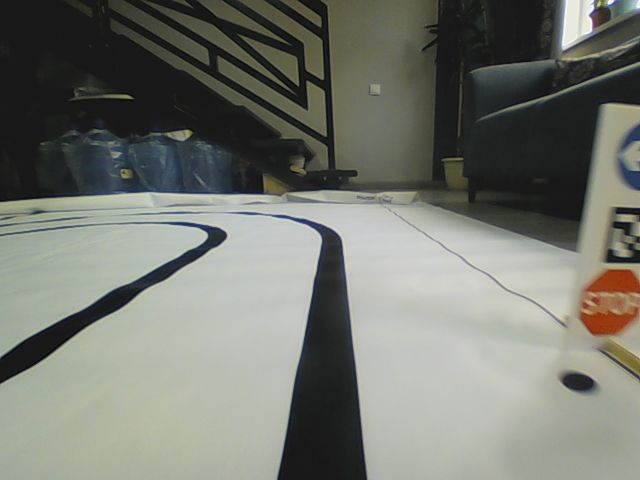Stop: (579, 270, 640, 336)
